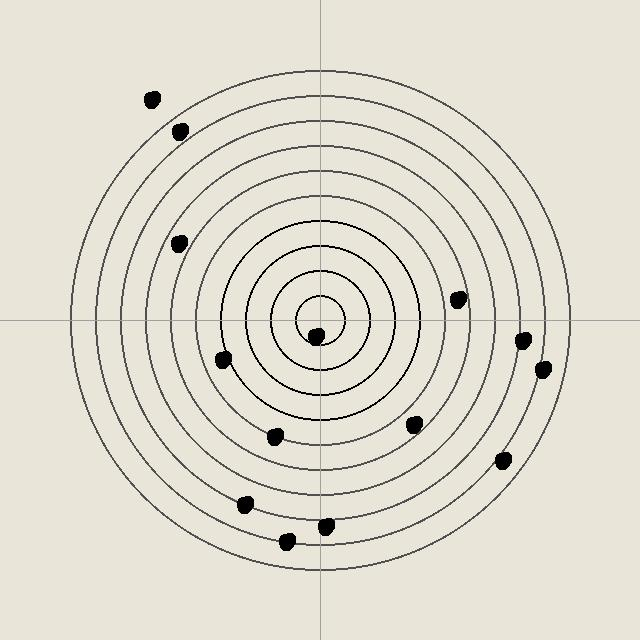random_scatter: (141, 89, 161, 109), (403, 414, 423, 434), (532, 359, 552, 379), (315, 516, 335, 536), (264, 426, 284, 446), (234, 494, 254, 514), (168, 233, 188, 253), (169, 121, 189, 141), (276, 531, 296, 551), (492, 450, 512, 470), (305, 326, 325, 346), (512, 330, 532, 350), (447, 289, 467, 309), (212, 349, 232, 369)
